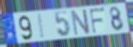5: (53, 10, 72, 38)
8: (110, 6, 126, 32)
9: (18, 15, 33, 41)
F: (89, 7, 106, 35)
I: (37, 13, 46, 40)
N: (70, 8, 91, 37)
